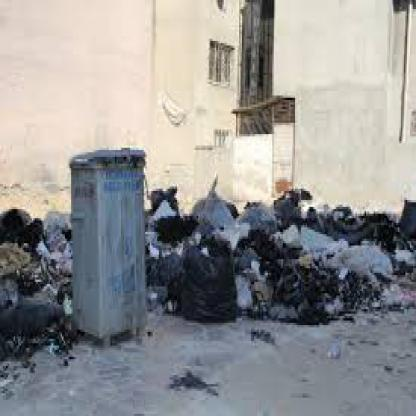Garbage: (254, 193, 415, 336), (151, 184, 248, 330), (0, 200, 70, 375)
